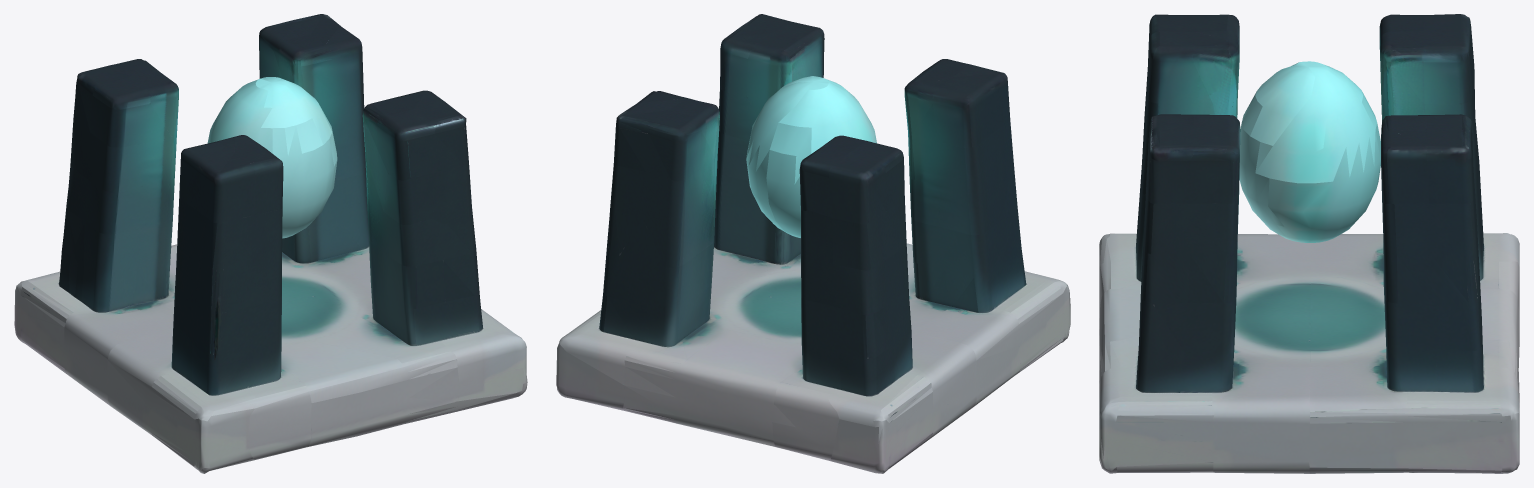
File: command-core.glb
3 views of the same model, side by side, from view 1: azimuth 30°, elevation 25°; view 2: azimuth 150°, elevation 25°; view 3: azimuth 270°, elevation 25° (orthographic). The views are drawn at different scales.
Bounding box in the file's own units: 1 × 0.8477 × 1.
1 material, 1 textured.
